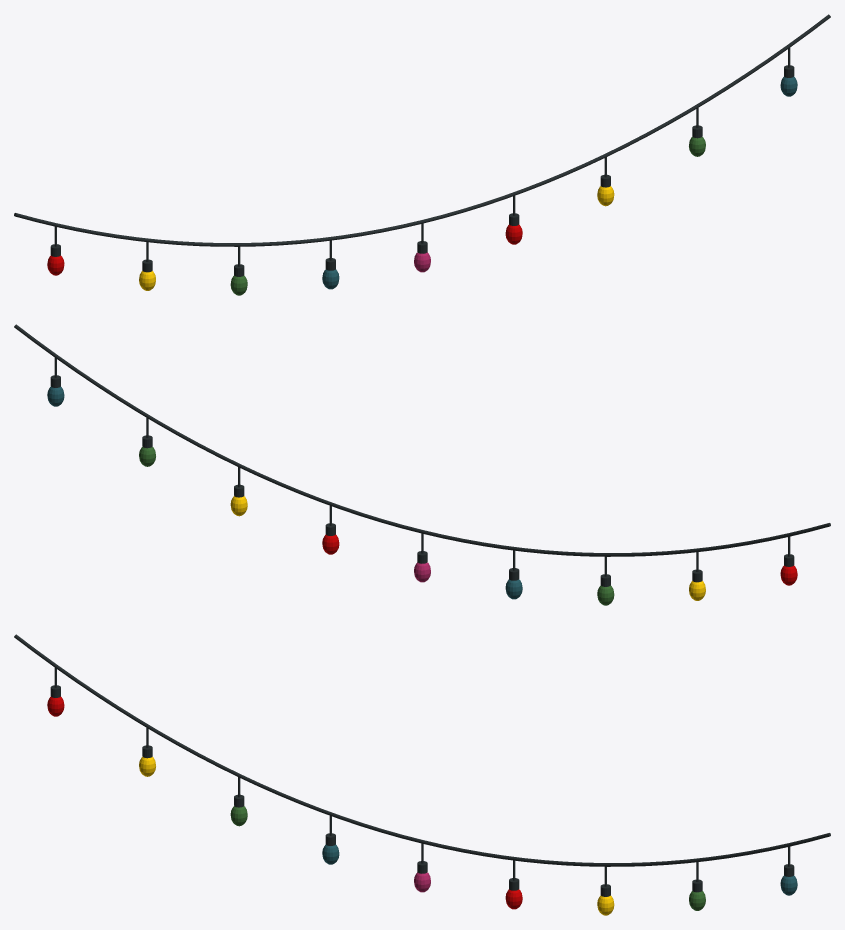
The model's file is neighbourhood-pasar-malam-light-string.glb.
3 renders of one model, top to bottom at view 1: azimuth 30°, elevation 25°; view 2: azimuth 150°, elevation 25°; view 3: azimuth 330°, elevation 25°, orthographic.
Size of the model in its own units: 4.01 by 0.7422 by 0.074.
